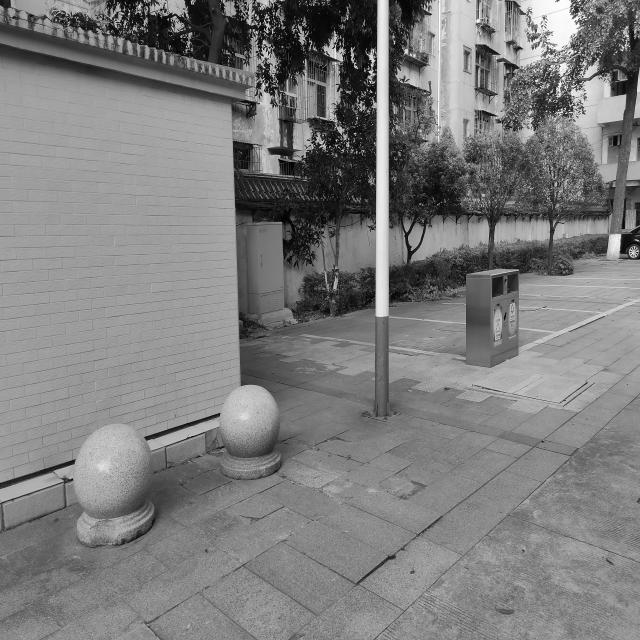ash bin: (462, 264, 522, 370)
car: (620, 226, 637, 260)
pole: (370, 5, 397, 417)
spherical_roadblock: (71, 422, 155, 547), (220, 384, 282, 478)
